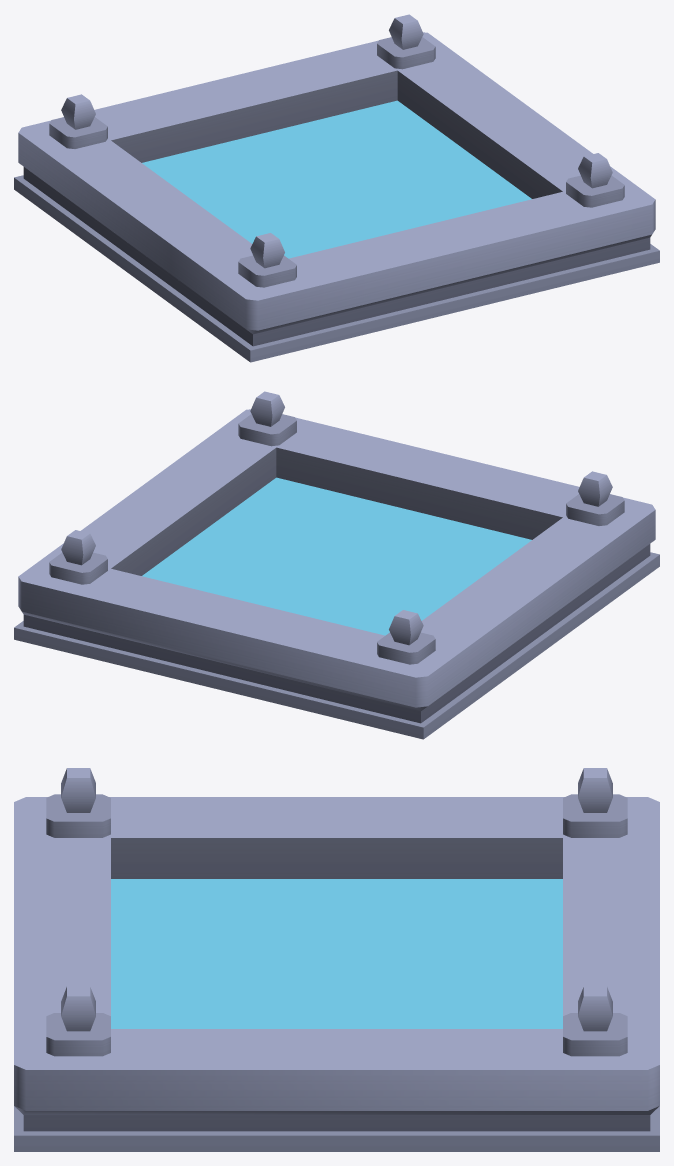
Rendered from fountain-square.fbx.
The picture shows the model from 3 angles, top to bottom: view 1: azimuth 30°, elevation 25°; view 2: azimuth 150°, elevation 25°; view 3: azimuth 270°, elevation 25°; orthographic projection. The views are drawn at different scales.
Parts seen in each view (by area): view 1: fountain-square, (%ignore); view 2: fountain-square, (%ignore); view 3: fountain-square, (%ignore).
Part boxes in pixels (box(x1,y1,x2,y2)): fountain-square: box(14, 14, 659, 362); (%ignore): box(142, 100, 531, 258); fountain-square: box(14, 391, 659, 739); (%ignore): box(142, 477, 531, 635); fountain-square: box(14, 768, 659, 1151); (%ignore): box(111, 879, 562, 1028).
Size of the model in its own units: 200 by 45.52 by 200.
Materials: 2 (1 with a texture image).
